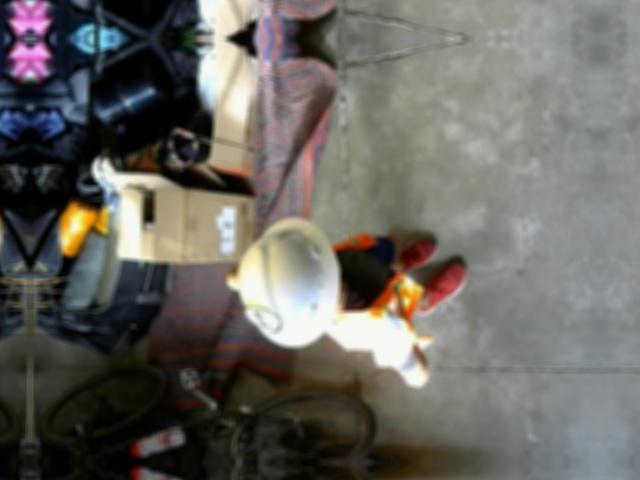one: (243, 307, 279, 332)
